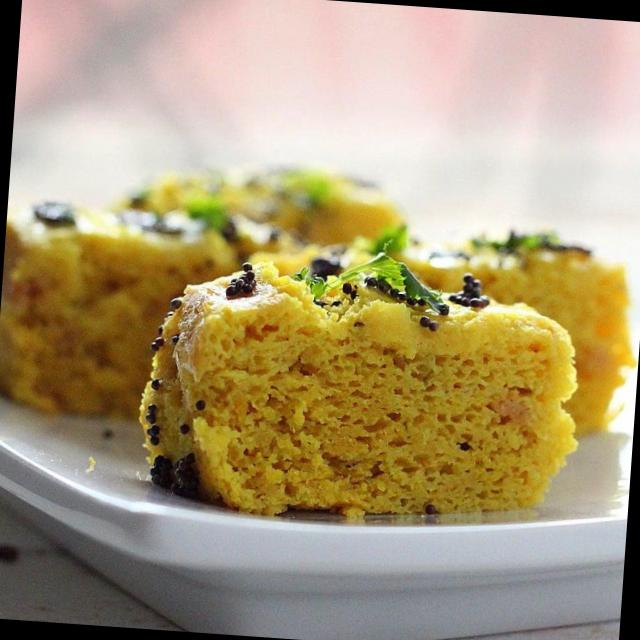dhokla: (0, 161, 626, 530)
